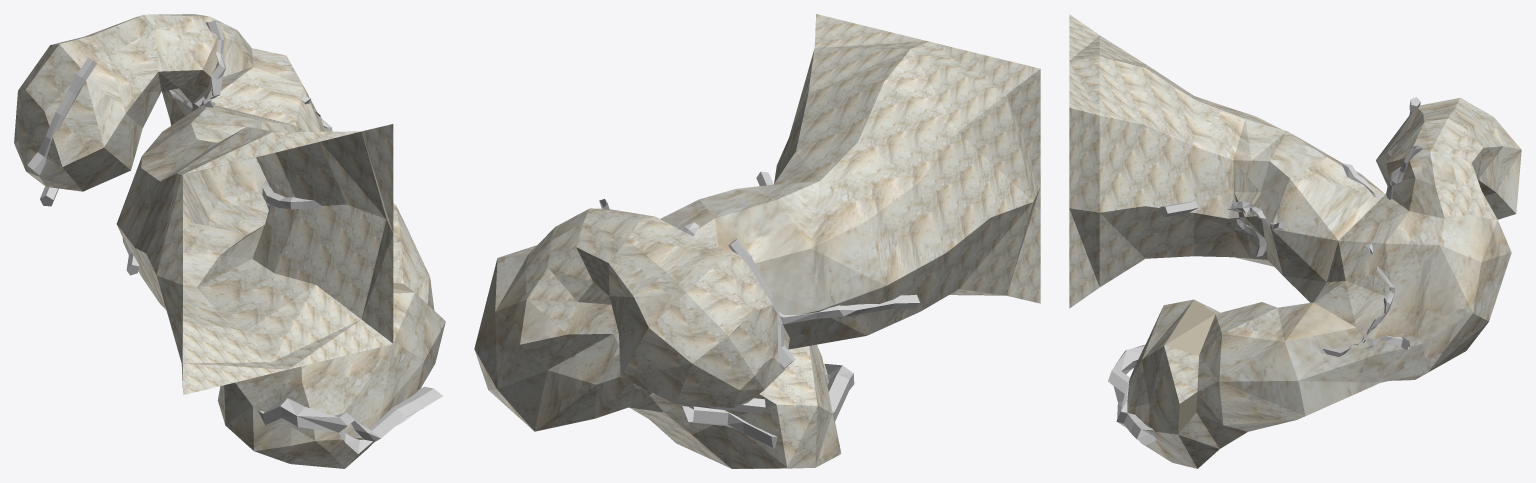
File: cave.dae
3 renders of one model, left to right at view 1: azimuth 30°, elevation 25°; view 2: azimuth 150°, elevation 25°; view 3: azimuth 270°, elevation 25°, orthographic. The views are drawn at different scales.
Parts seen in each view (by area): view 1: cave, veins; view 2: cave, veins; view 3: cave, veins.
Part boxes in pixels (x1,y1,x2,y2): cave: (14, 14, 445, 468); veins: (27, 21, 442, 453); cave: (474, 14, 1040, 468); veins: (599, 171, 919, 448); cave: (1069, 14, 1521, 468); veins: (1108, 97, 1422, 444).
Bounding box in the file's own units: 138 × 163 × 137.
Materials: 2 (1 with a texture image).
